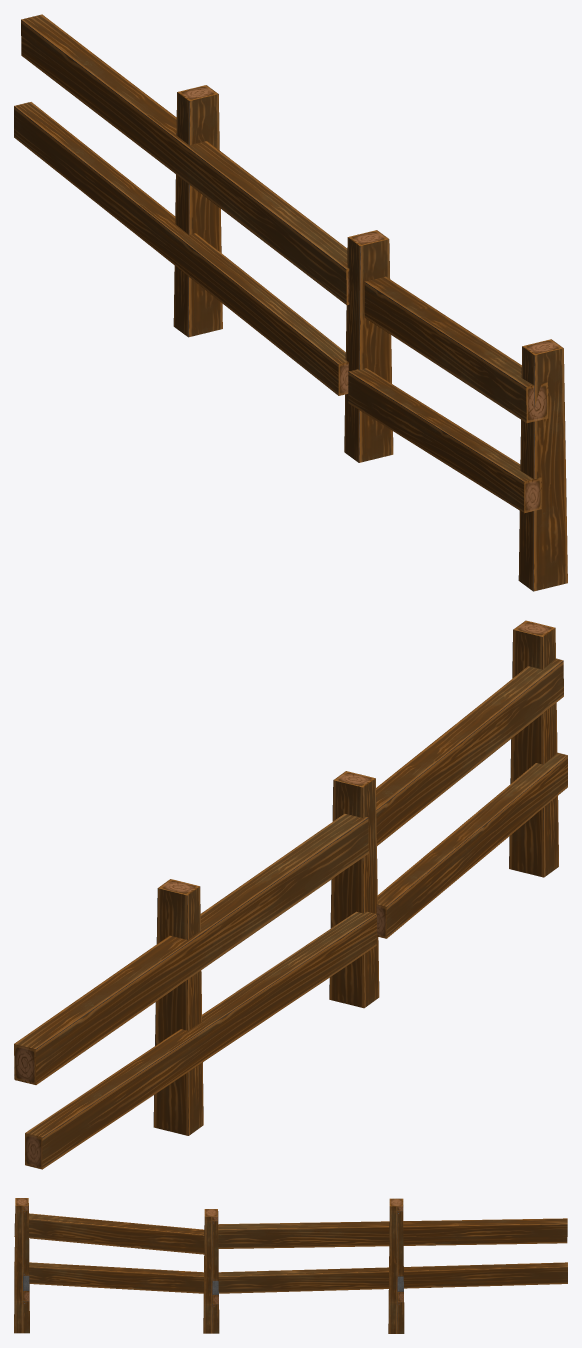
3 views of the same model, one above another, from view 1: azimuth 30°, elevation 25°; view 2: azimuth 150°, elevation 25°; view 3: azimuth 270°, elevation 25° (orthographic). The views are drawn at different scales.
Parts seen in each view (by area): view 1: Cube.013; view 2: Cube.013; view 3: Cube.013.
Part boxes in pixels (box(x1,y1,x2,y2)): Cube.013: box(14, 14, 567, 591); Cube.013: box(14, 620, 567, 1169); Cube.013: box(14, 1198, 567, 1333).
Bounding box in the file's own units: 26.67 × 132 × 522.
Materials: 1 (1 with a texture image).
